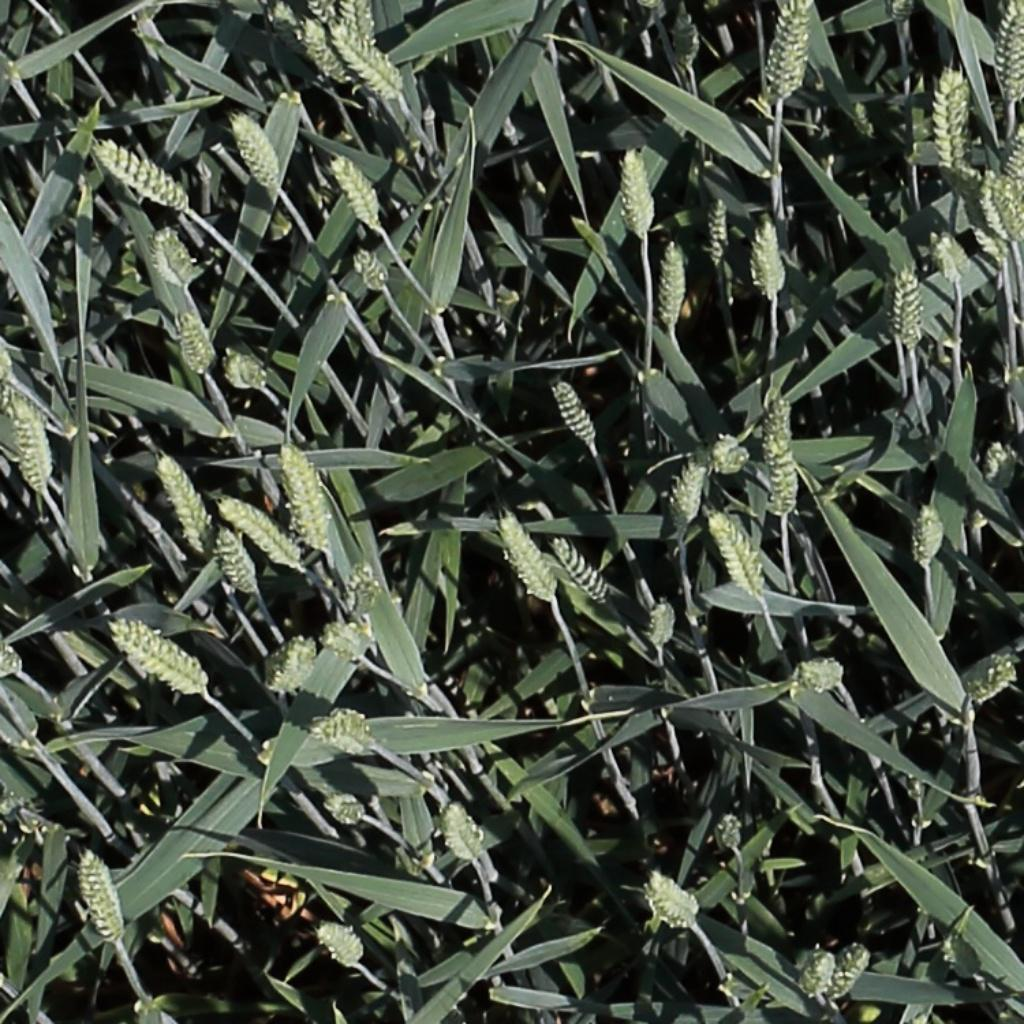0-0: (109, 621, 207, 694), (763, 0, 829, 100), (496, 507, 561, 607), (96, 139, 189, 208), (707, 506, 770, 604), (154, 449, 212, 555), (941, 163, 1002, 260), (219, 496, 301, 567), (330, 29, 405, 106), (281, 439, 330, 554), (548, 529, 615, 607), (77, 845, 125, 946), (327, 147, 385, 230), (6, 393, 53, 495), (228, 105, 283, 192), (925, 63, 969, 171), (306, 703, 379, 760), (294, 20, 350, 94), (767, 387, 797, 524), (550, 374, 603, 451), (214, 522, 262, 602), (622, 140, 655, 241), (830, 939, 883, 1001), (890, 259, 924, 352), (266, 634, 316, 697), (647, 871, 701, 928), (323, 614, 380, 667), (152, 221, 196, 289), (445, 798, 487, 869), (177, 305, 215, 379), (985, 170, 1024, 240), (258, 0, 306, 56), (784, 657, 852, 695), (932, 226, 972, 290), (660, 236, 686, 333), (674, 458, 708, 532), (708, 432, 758, 480), (965, 660, 1019, 704), (317, 787, 371, 831), (800, 938, 837, 1001), (316, 922, 365, 969), (350, 241, 391, 296), (348, 557, 379, 625), (708, 189, 734, 270), (916, 498, 943, 573), (222, 346, 268, 389), (849, 90, 883, 146), (674, 4, 700, 75), (984, 434, 1011, 494), (649, 595, 675, 655), (339, 0, 370, 47), (718, 808, 746, 860), (1005, 116, 1024, 188), (0, 633, 27, 681), (308, 0, 341, 34), (885, 0, 920, 21)
